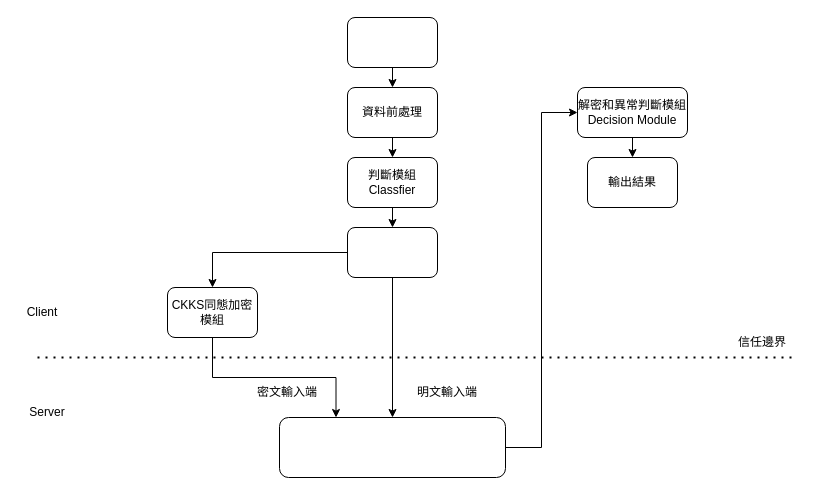
Image size: 816x495. Some labels were removed from this diagram. The centre of each missing label's shape, as x and y in pixels:
Logistic Regression模型: (392,447)
即時網路流量: (392,42)
資料保護模組 Adaptive Module: (392,252)
